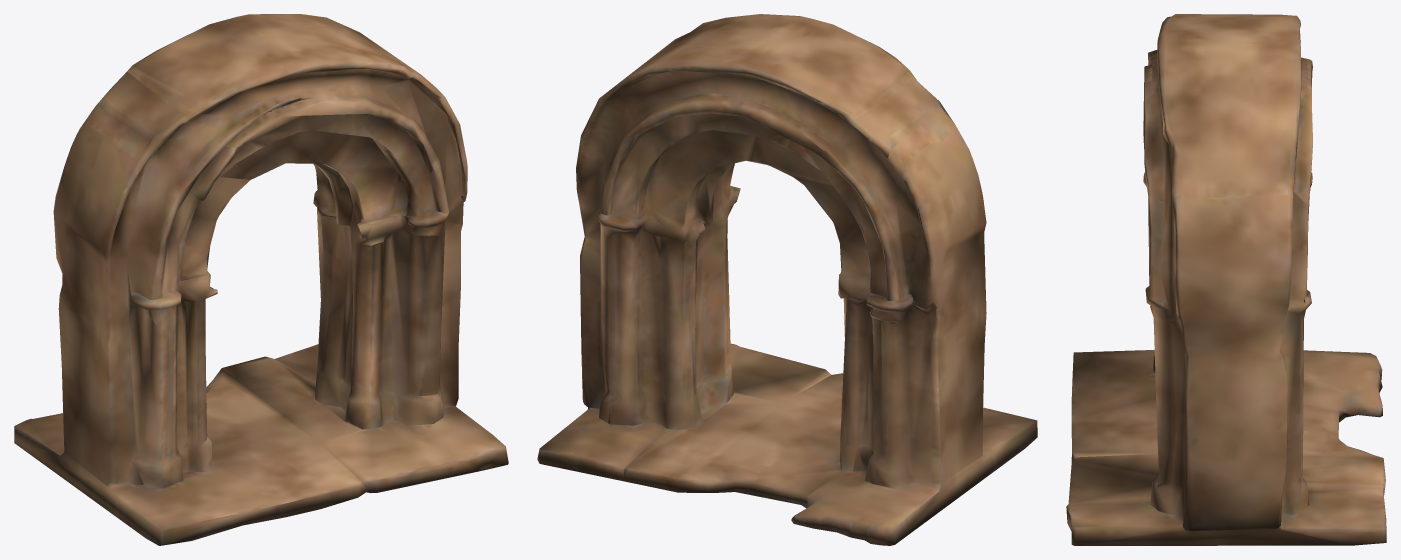
File: ancient-sandstone-street-arch-v003.glb
The picture shows the model from 3 angles, left to right: view 1: azimuth 30°, elevation 25°; view 2: azimuth 150°, elevation 25°; view 3: azimuth 270°, elevation 25°; orthographic projection. The views are drawn at different scales.
Parts seen in each view (by area): view 1: ancient-sandstone-street-arch; view 2: ancient-sandstone-street-arch; view 3: ancient-sandstone-street-arch.
Part boxes in pixels (x1=…): ancient-sandstone-street-arch: x1=14, y1=14, x2=508, y2=545; ancient-sandstone-street-arch: x1=537, y1=14, x2=1037, y2=545; ancient-sandstone-street-arch: x1=1066, y1=14, x2=1386, y2=545.
Size of the model in its own units: 3.12 by 3.38 by 2.33.
Materials: 1 (1 with a texture image).
